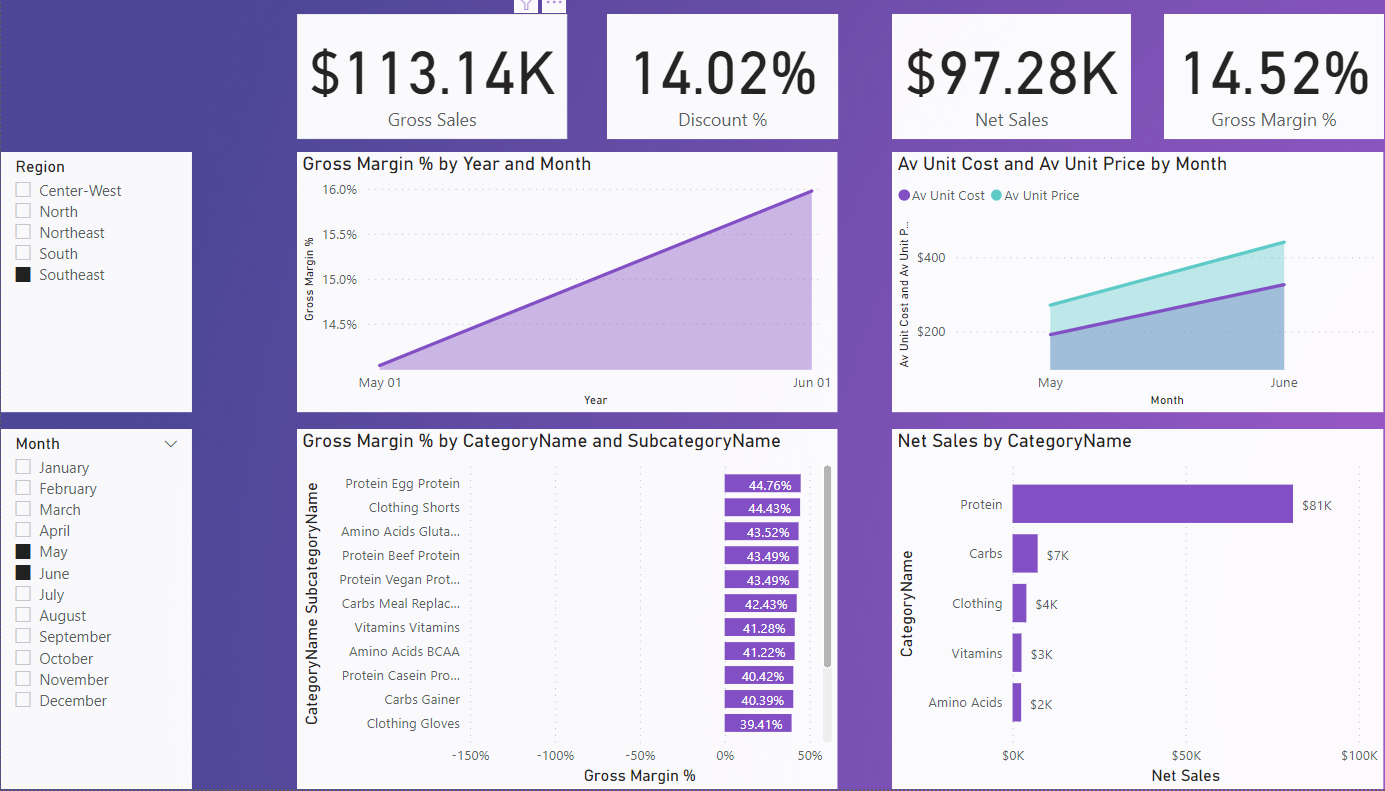

The page's visual inventory and layout, read from the dashboard file:
{"tool":"powerbi","page":{"name":"Page 1","canvas":[1280,720],"ordinal":0},"visuals":[{"type":"card","fields":{"Values":["Key Measures.Gross Sales"]},"box":[265.3,25.7,242,112.5],"z":0},{"type":"barChart","fields":{"Category":["Sales.CategoryName","Sales.SubcategoryName"],"Y":["Sales.Net Sales"]},"box":[798.2,397.3,440.1,322.7],"z":1000},{"type":"card","fields":{"Values":["Key Measures.Discount %"]},"box":[542.8,25.7,206.6,112.5],"z":2000},{"type":"card","fields":{"Values":["Key Measures.Net Sales"]},"box":[798.2,25.7,213.9,112.5],"z":3000},{"type":"card","fields":{"Values":["Key Measures.Gross Margin %"]},"box":[1041.5,25.7,196.8,112.5],"z":4000},{"type":"areaChart","fields":{"Category":["Sales.OrderDate.Variation.Date Hierarchy.Year","Sales.OrderDate.Variation.Date Hierarchy.Month"],"Y":["Key Measures.Gross Margin %"]},"box":[265.3,149.1,484.1,233.5],"z":5000},{"type":"slicer","fields":{"Values":["Sales.Region"]},"box":[0,149.1,171.1,233.5],"z":6000},{"type":"slicer","fields":{"Values":["Sales.OrderDate.Variation.Date Hierarchy.Month"]},"box":[0,397.3,171.1,322.7],"z":7000},{"type":"areaChart","fields":{"Category":["Sales.OrderDate.Variation.Date Hierarchy.Month"],"Y":["Key Measures.Av Unit Cost","Key Measures.Av Unit Price"]},"box":[798.2,149.1,440.1,233.5],"z":8000},{"type":"barChart","fields":{"Category":["Sales.CategoryName","Sales.SubcategoryName"],"Y":["Key Measures.Gross Margin %"]},"box":[265.3,397.3,484.1,322.7],"z":9000}]}

Visuals, with their boxes in screenshot pixels (x1, y1, x2, y2), scaled from the page's 1280x720 canvas onto the 1385x791 screenshot:
card - Key Measures.Gross Sales: BBox(287, 28, 549, 152)
barChart - Sales.CategoryName x Sales.SubcategoryName: BBox(864, 436, 1340, 790)
card - Key Measures.Discount %: BBox(587, 28, 811, 152)
card - Key Measures.Net Sales: BBox(864, 28, 1095, 152)
card - Key Measures.Gross Margin %: BBox(1127, 28, 1340, 152)
areaChart - Sales.OrderDate.Variation.Date Hierarchy.Year x Sales.OrderDate.Variation.Date Hierarchy.Month: BBox(287, 164, 811, 420)
slicer - Sales.Region: BBox(0, 164, 185, 420)
slicer - Sales.OrderDate.Variation.Date Hierarchy.Month: BBox(0, 436, 185, 790)
areaChart - Sales.OrderDate.Variation.Date Hierarchy.Month x Key Measures.Av Unit Cost: BBox(864, 164, 1340, 420)
barChart - Sales.CategoryName x Sales.SubcategoryName: BBox(287, 436, 811, 790)
